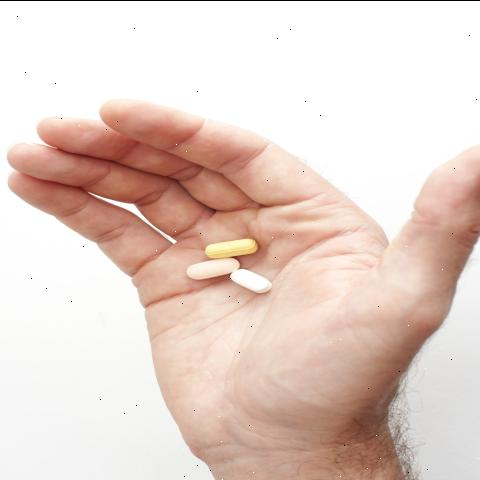Pill: (221, 254, 284, 300), (197, 227, 285, 256), (178, 253, 244, 281)
